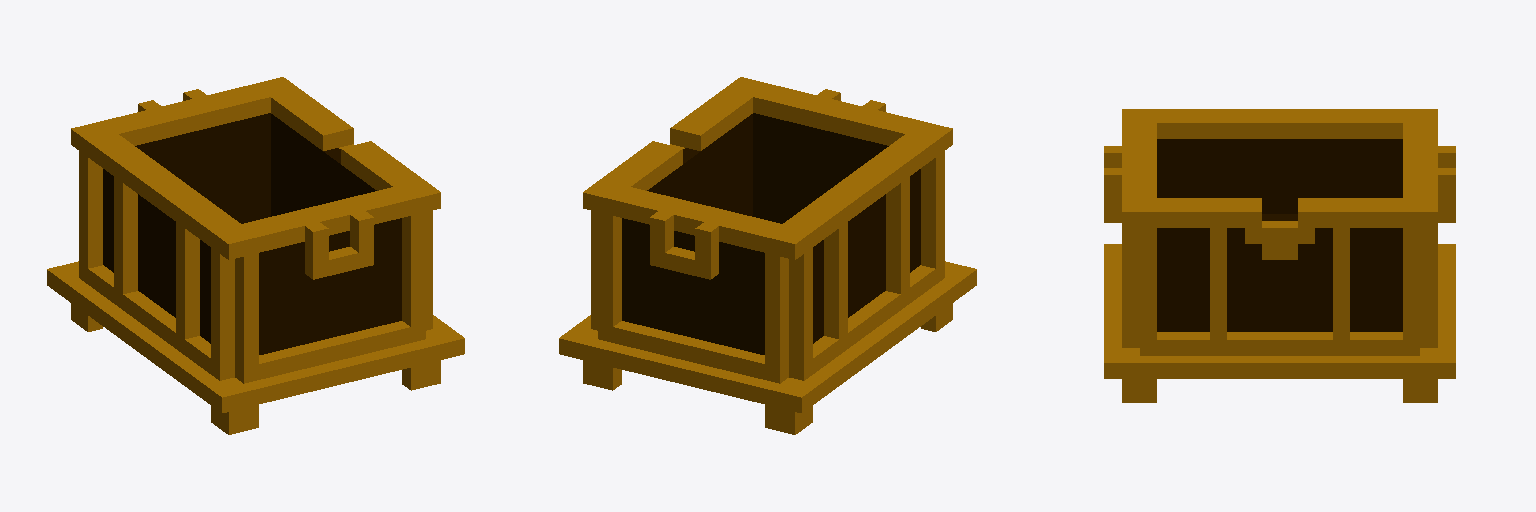
The picture shows the model from 3 angles: view 1: azimuth 30°, elevation 25°; view 2: azimuth 150°, elevation 25°; view 3: azimuth 270°, elevation 25°; orthographic projection.
Parts seen in each view (by area): view 1: Matrix_3; view 2: Matrix_3; view 3: Matrix_3.
Boxes of the visible parts, <box> form: Matrix_3: <box>47,77,464,434</box>; Matrix_3: <box>559,77,976,434</box>; Matrix_3: <box>1104,109,1455,402</box>.
Bounding box in the file's own units: 16 × 12 × 20.
Materials: 1 (1 with a texture image).